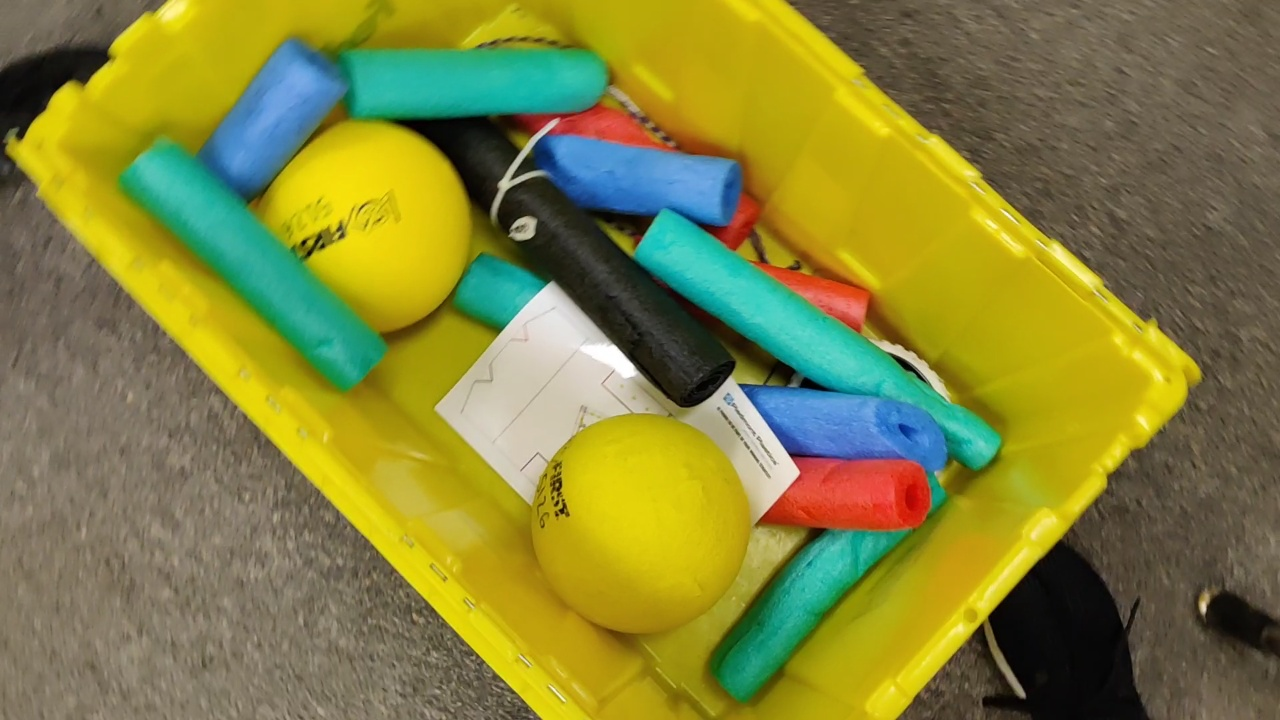Ball: (243, 116, 473, 337), (529, 413, 751, 639)
